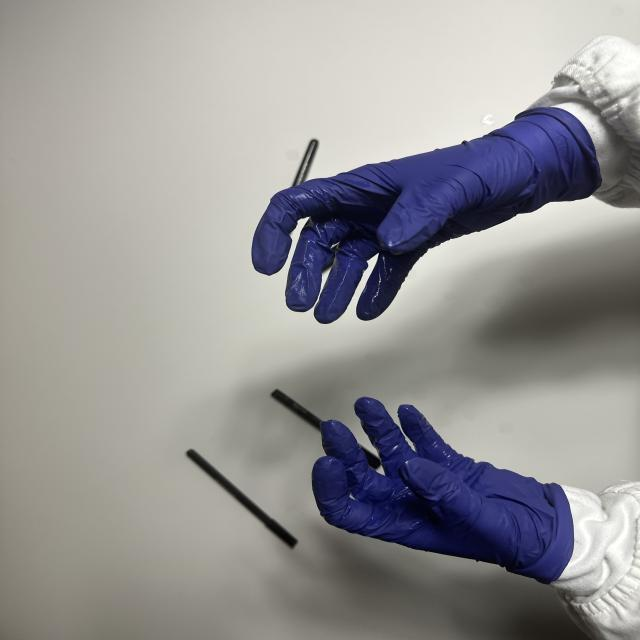gloves_contaminated: (252, 109, 600, 323), (312, 397, 573, 584)
